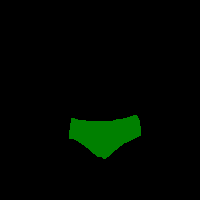mutande: (69, 114, 141, 159)
